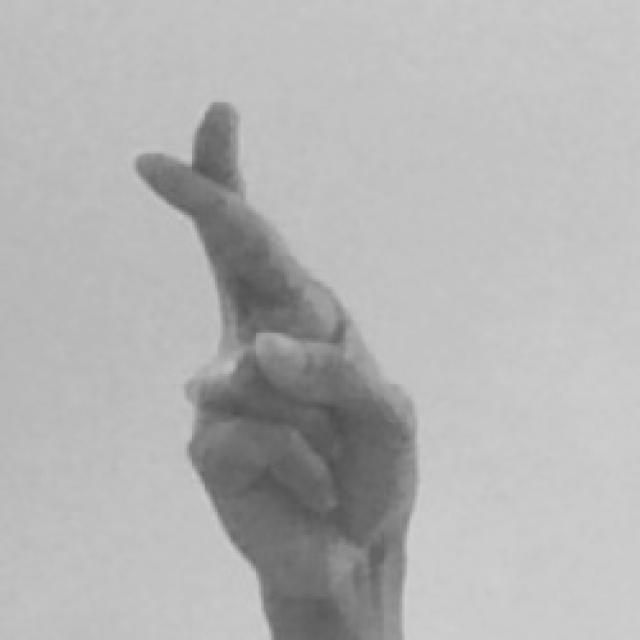R: (132, 96, 424, 640)
